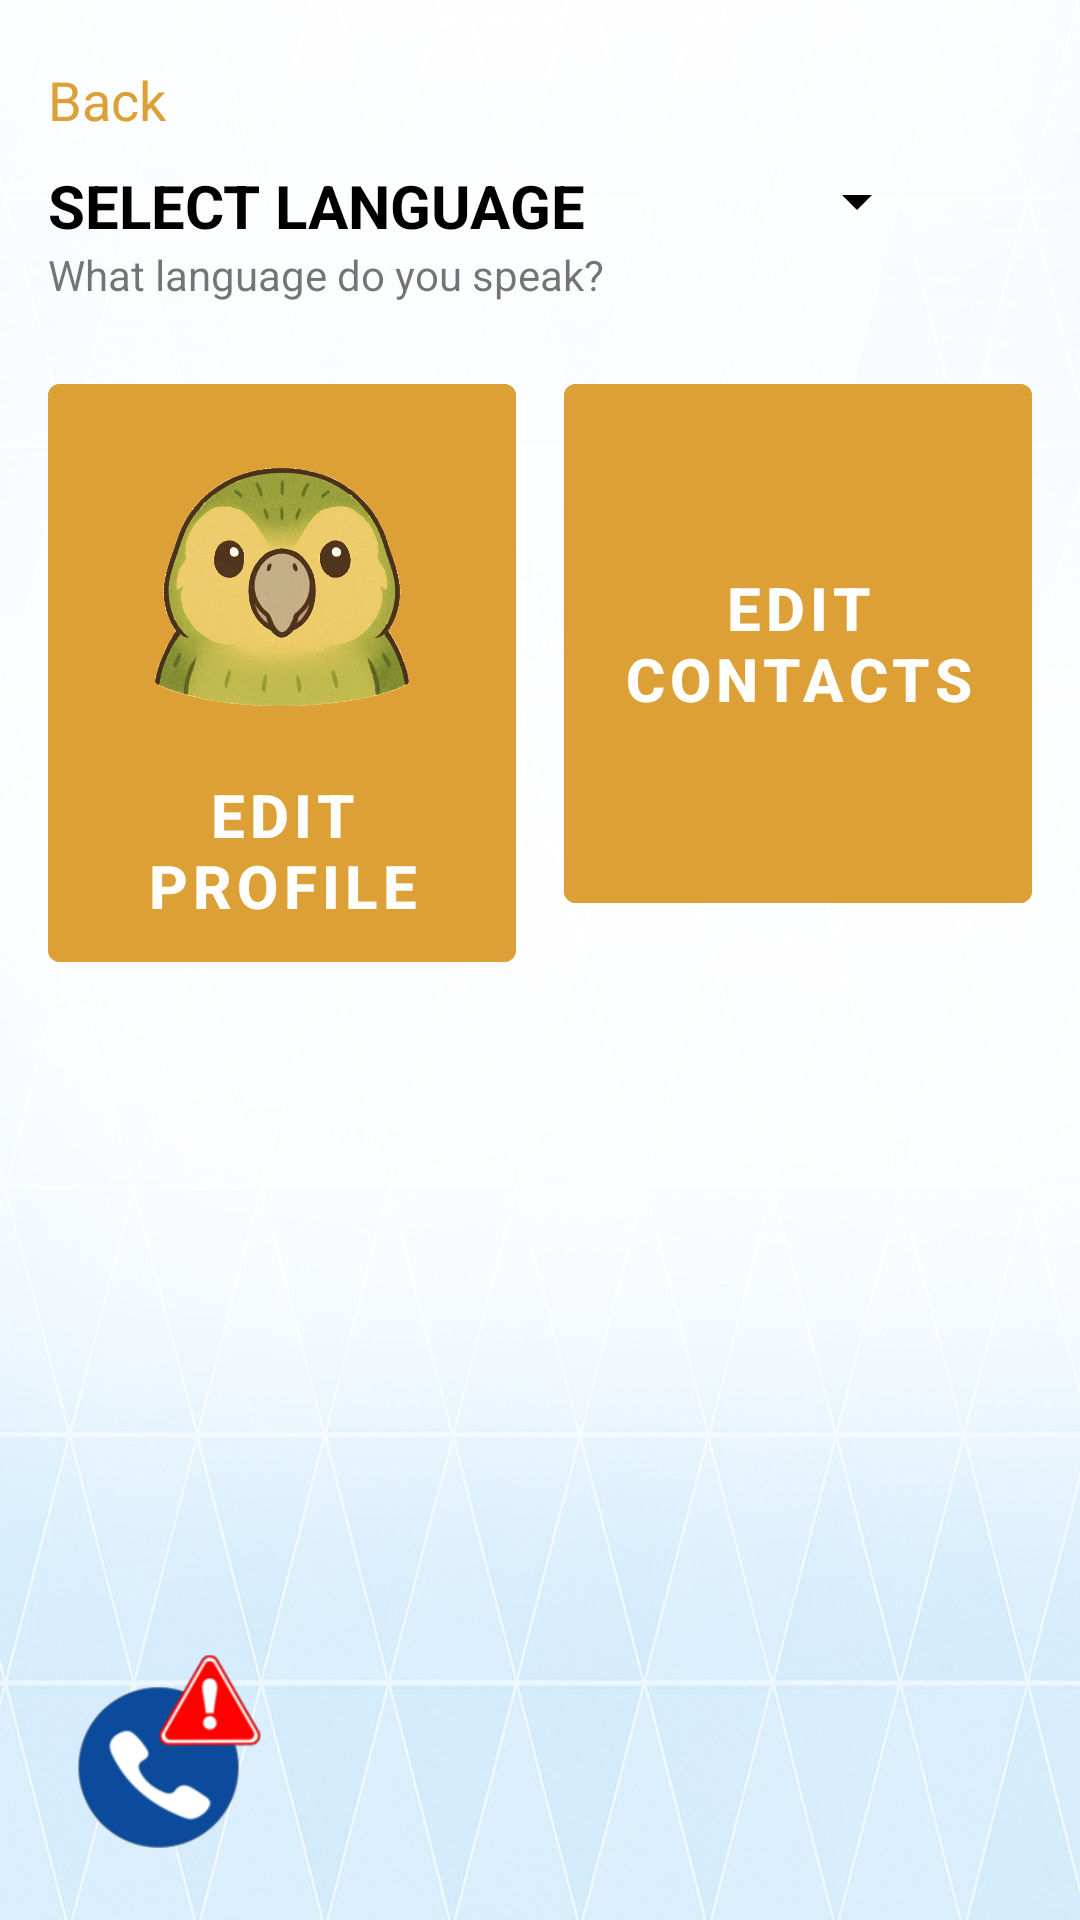

Where icons sit on this 1080px×1920px app screen, as (x1, y1, x2, y2):
emergencybutton: (78, 1653, 267, 1848)
